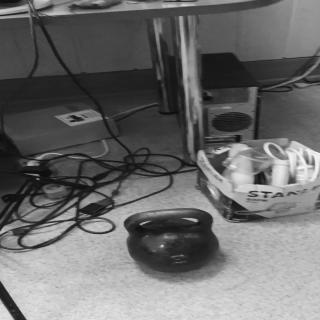girya: (125, 208, 220, 274)
